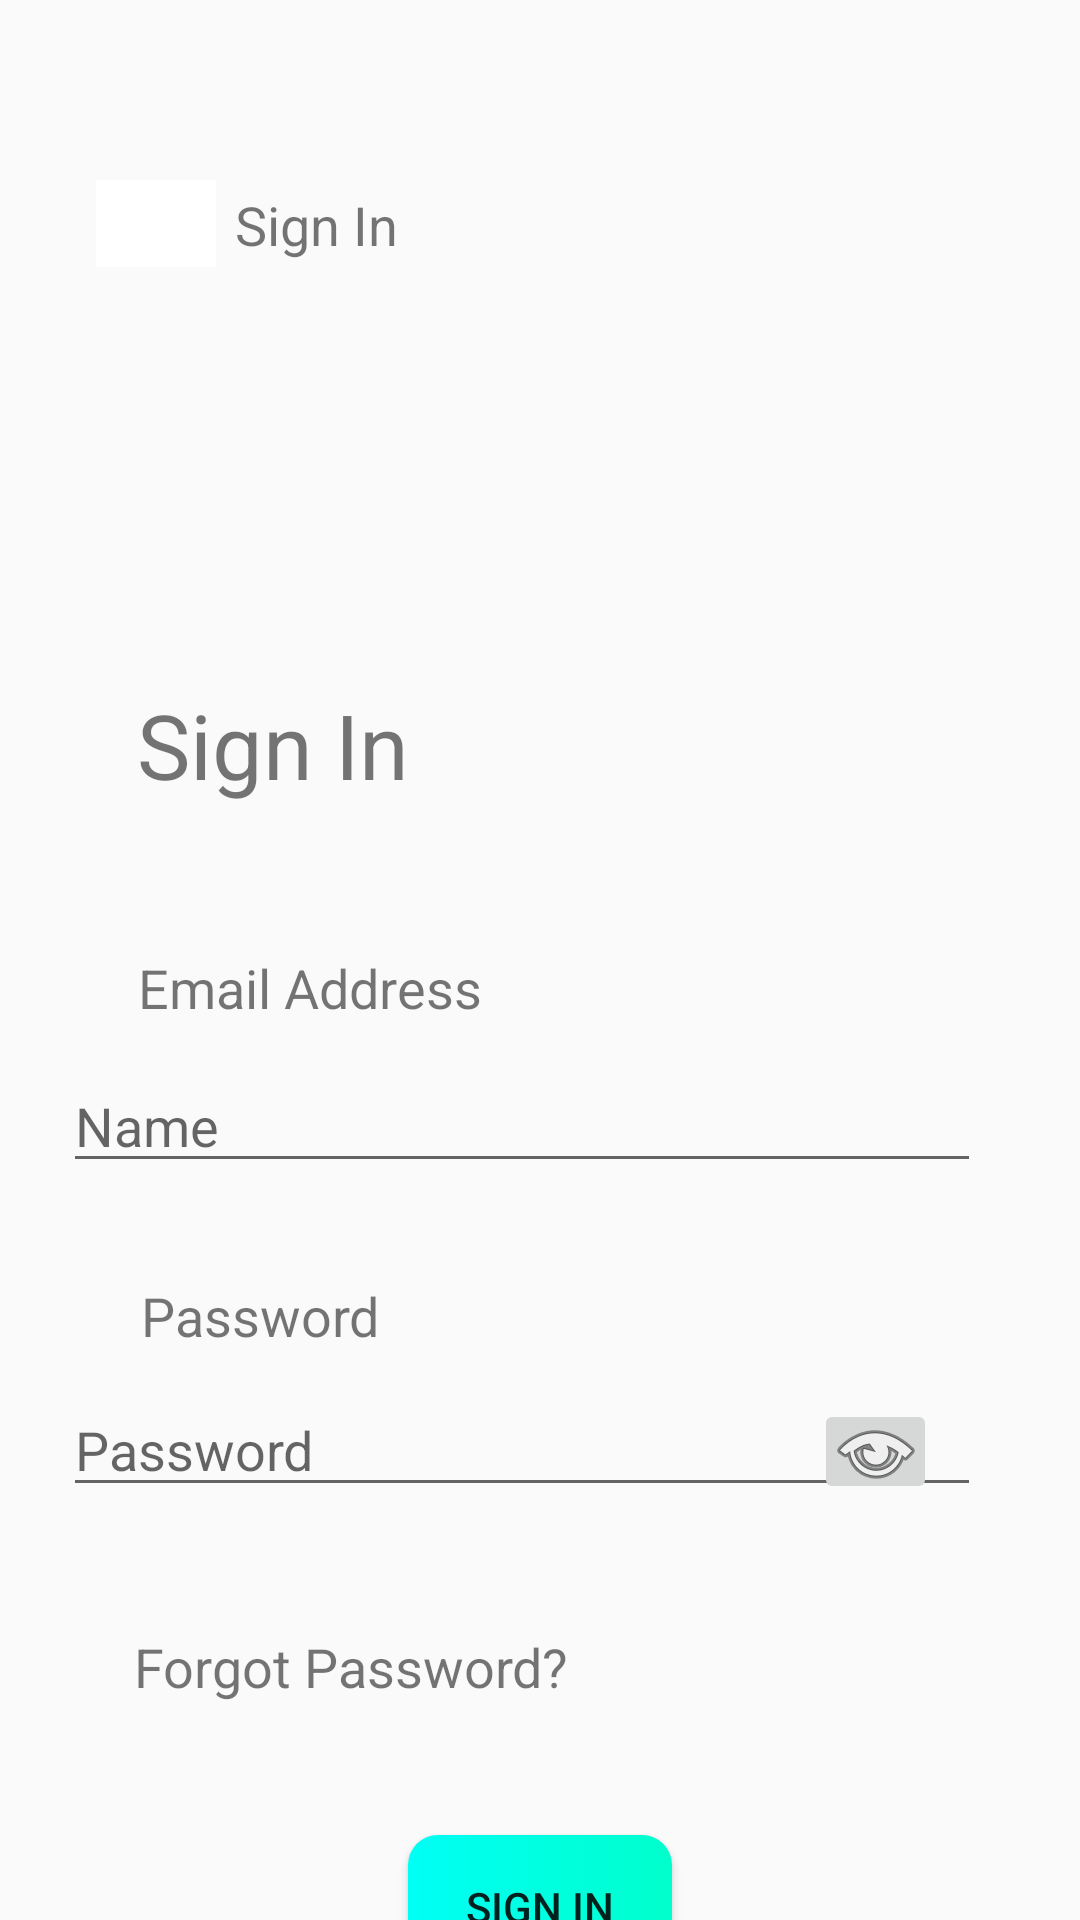

Screen size 1080w x 1920h. Icon name, then its box in pixels as (x1, y1, x2, y2):
view: (814, 1417, 937, 1486)
